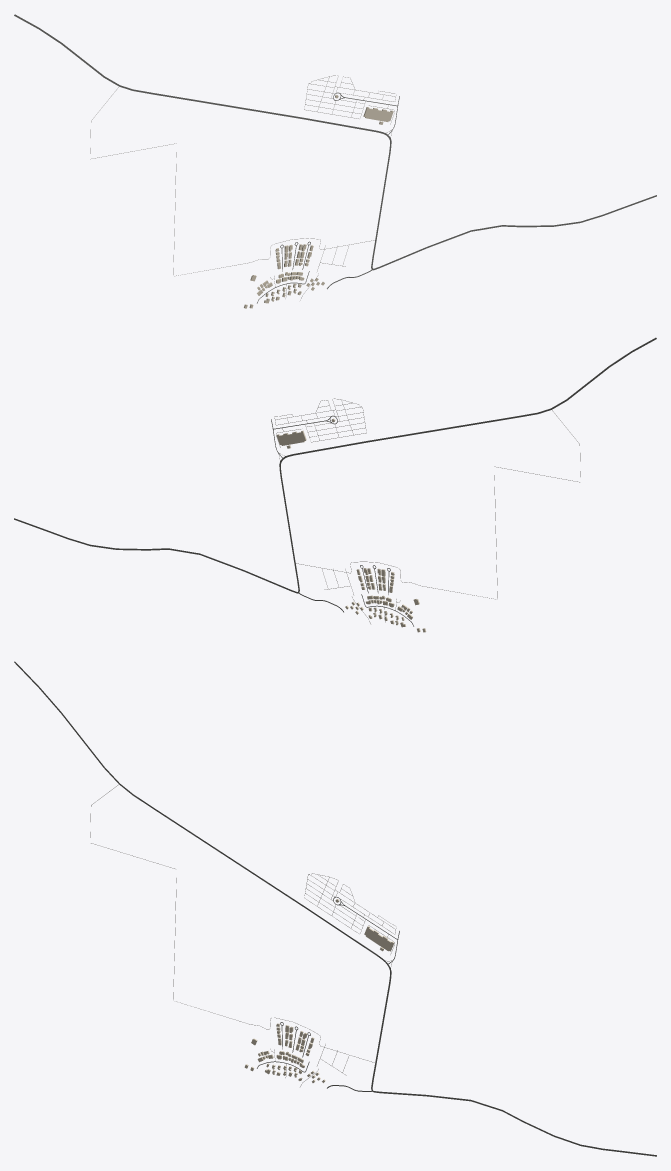
The model's file is historic-palestine-06_22_3479_3163.glb.
The picture shows the model from 3 angles, top to bottom: view 1: azimuth 30°, elevation 25°; view 2: azimuth 150°, elevation 25°; view 3: azimuth 330°, elevation 25°; orthographic projection.
Parts seen in each view (by area): view 1: Road 353; view 2: Road 353; view 3: Road 353.
Boxes of the visible parts, x1,y1,x2,y2 form: Road 353: (14,14,656,270); Road 353: (14,337,656,593); Road 353: (14,661,656,1156).
Size of the model in its own units: 3447 by 1829 by 8.7.
